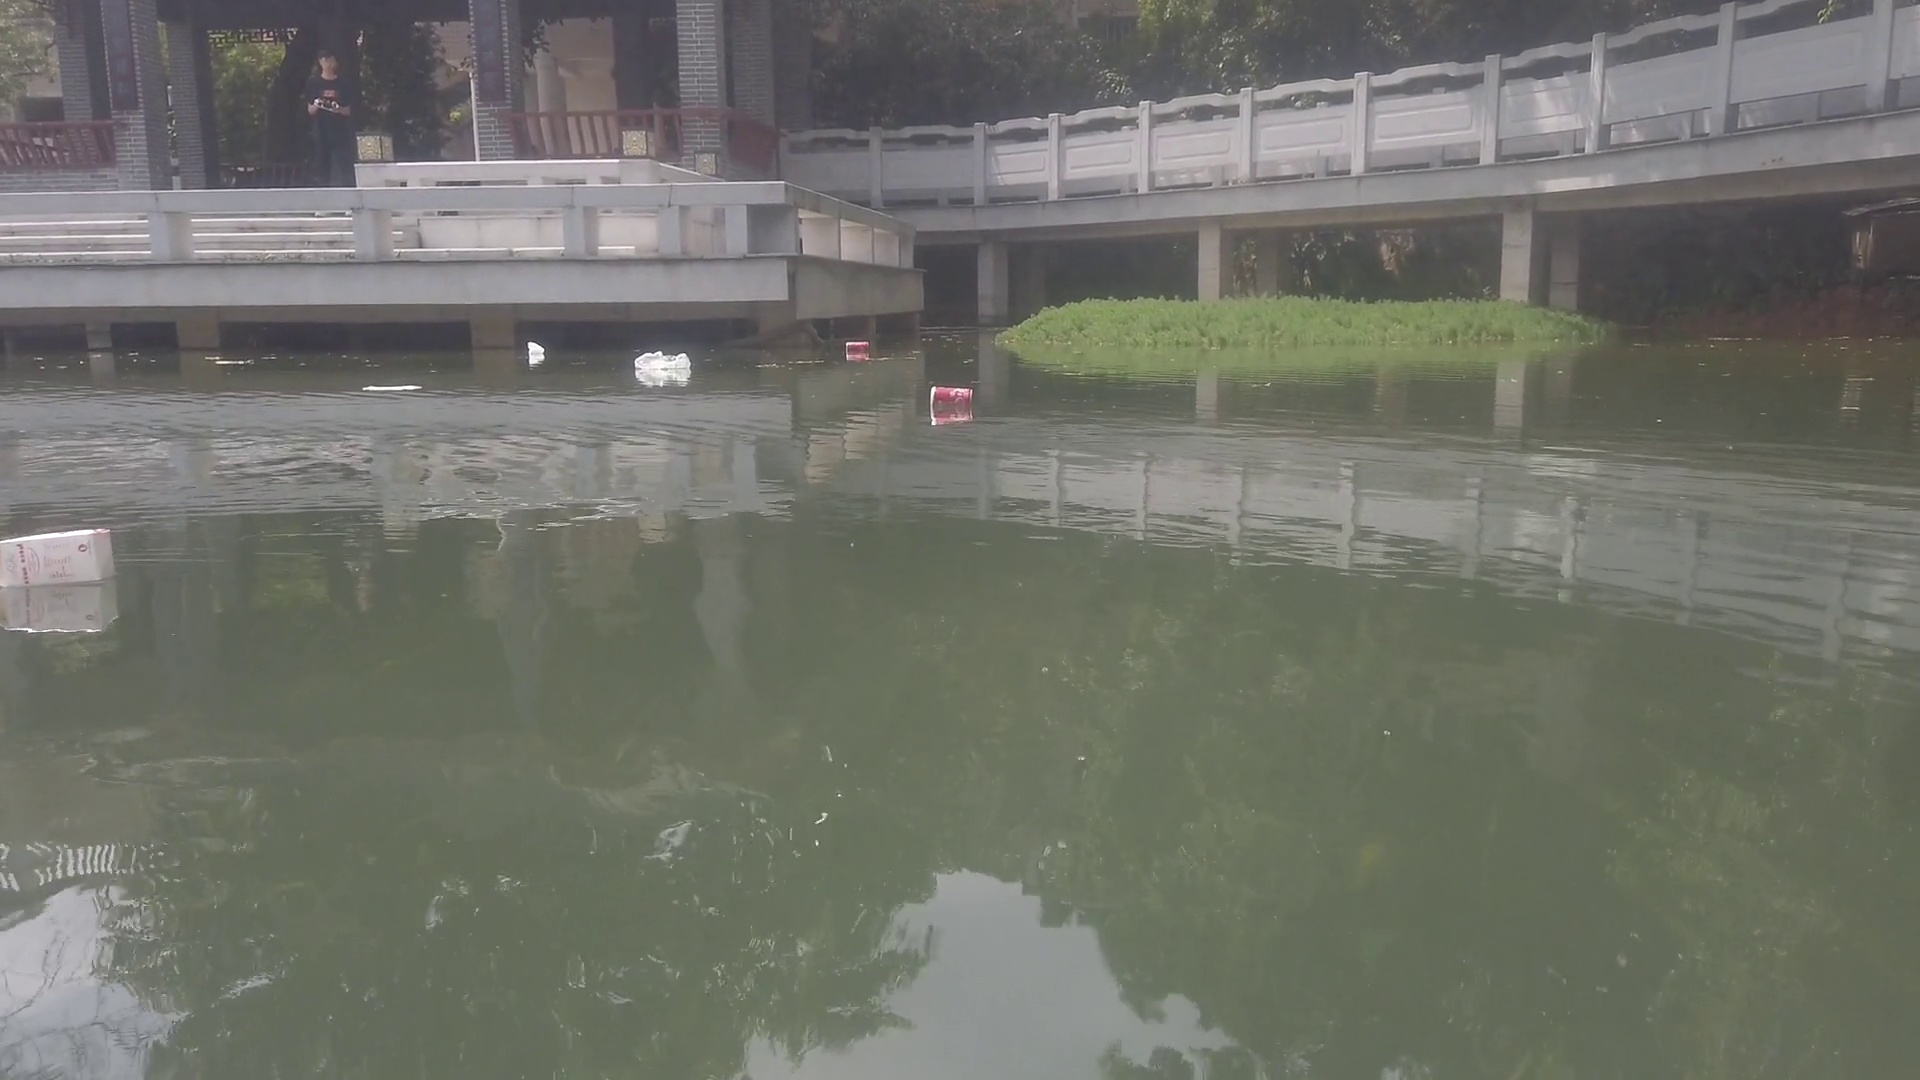bottle: (928, 380, 973, 407), (843, 339, 868, 352)
carton: (1, 524, 117, 589)
paper: (359, 380, 426, 392)
plastic: (626, 348, 694, 375), (526, 339, 546, 356)
